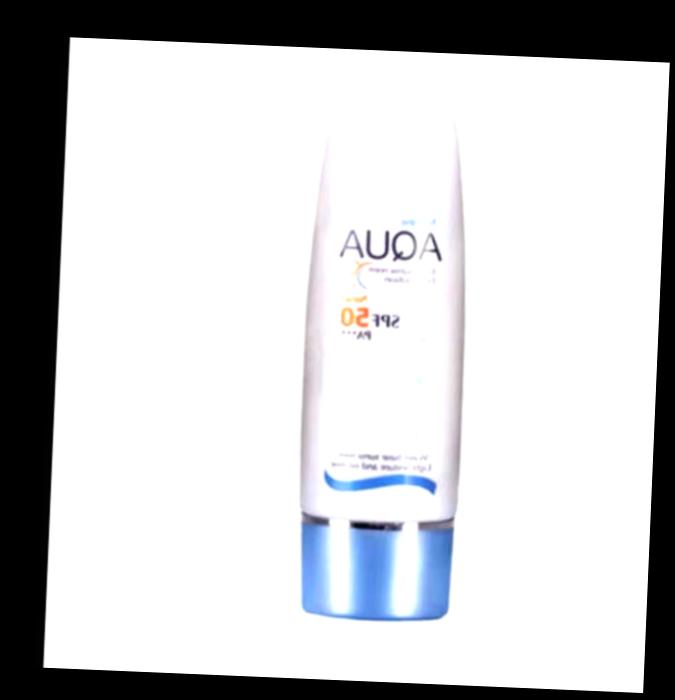cosmetic: (286, 107, 474, 621)
